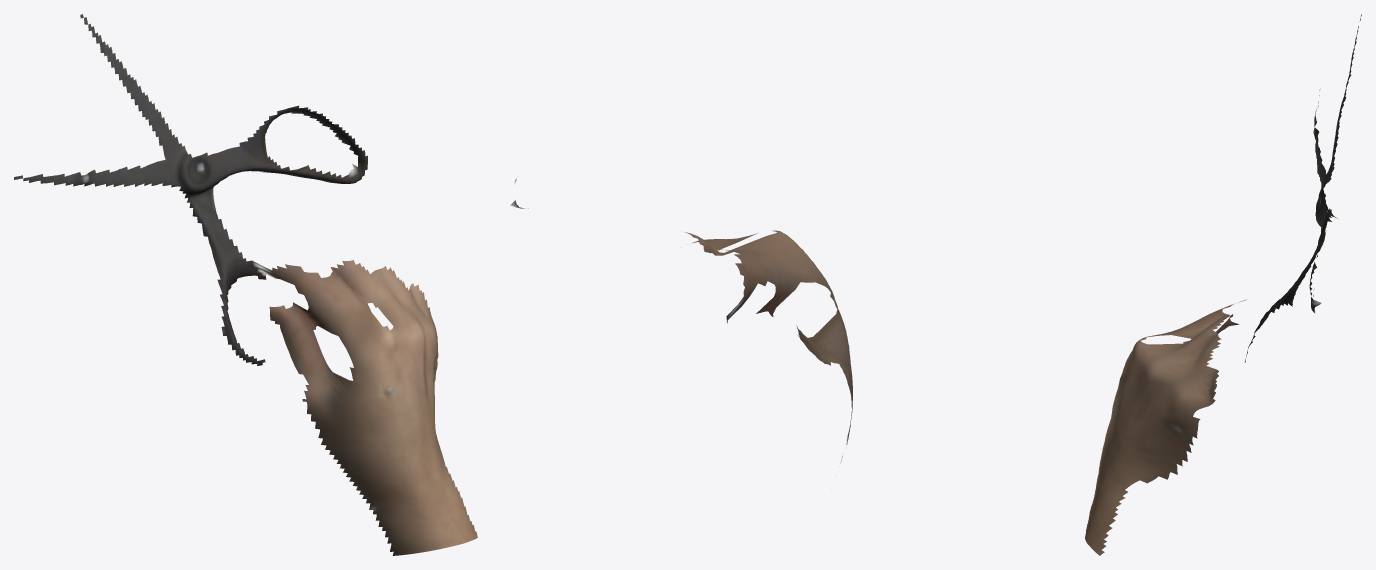
3 renders of one model, left to right at view 1: azimuth 30°, elevation 25°; view 2: azimuth 150°, elevation 25°; view 3: azimuth 270°, elevation 25°, orthographic. The views are drawn at different scales.
Parts seen in each view (by area): view 1: world; view 2: world; view 3: world.
Part boxes in pixels (x1,y1,x2,y2): world: (14,14,477,555); world: (510,178,852,462); world: (1085,14,1361,555).
Bounding box in the file's own units: 0.4334 × 0.5613 × 0.3229.
Materials: 1 (1 with a texture image).
